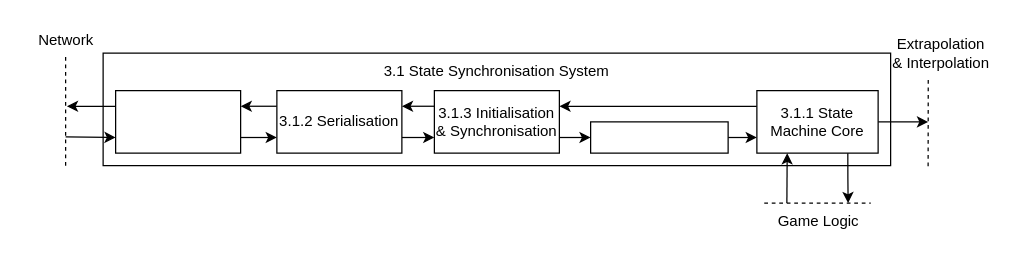
Image size: 1024x261. Some labels were removed from this diagram. Here are the shapes that lost their labels. From the top down, the centre of each, then its label:
At (x=177, y=121): "3.1.2 Networking".
At (x=658, y=137): "3.1.5 Update Inputs".
